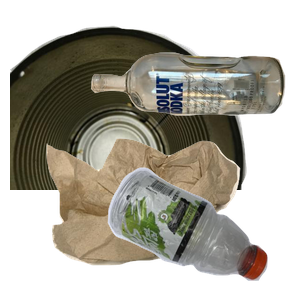glass: (88, 50, 300, 158)
metal: (10, 23, 250, 203)
plastic: (105, 165, 300, 300)
trash: (44, 136, 277, 300)
